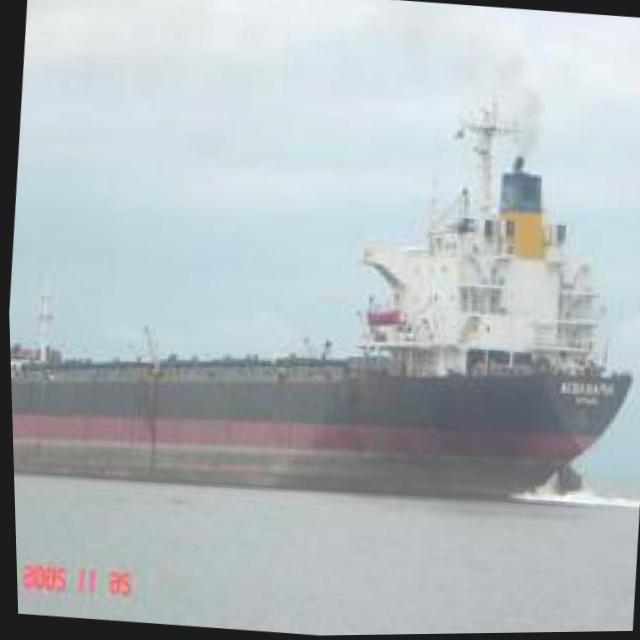ship2: (8, 103, 631, 502)
